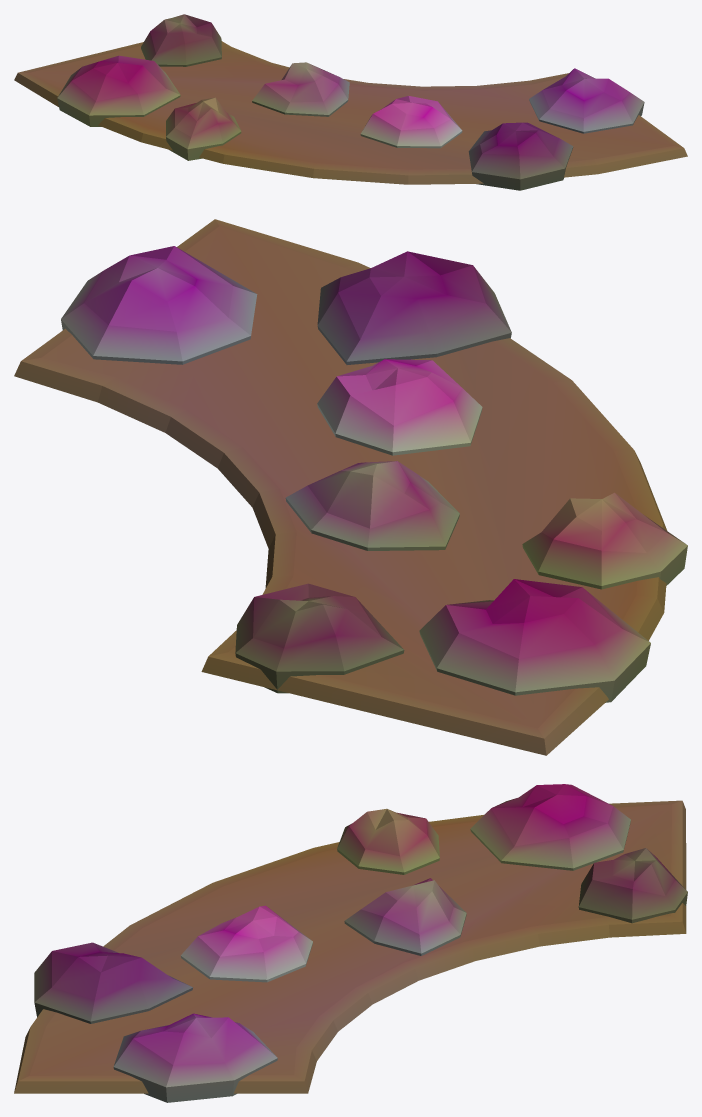
Rendered from Path_Stones_Curve.glb.
3 views of the same model, one above another, from view 1: azimuth 30°, elevation 25°; view 2: azimuth 150°, elevation 25°; view 3: azimuth 270°, elevation 25° (orthographic). The views are drawn at different scales.
Parts seen in each view (by area): view 1: Path_Stones_Curve; view 2: Path_Stones_Curve; view 3: Path_Stones_Curve.
Boxes of the visible parts, x1,y1,x2,y2 form: Path_Stones_Curve: [14, 14, 687, 190]; Path_Stones_Curve: [14, 219, 687, 755]; Path_Stones_Curve: [14, 784, 687, 1102].
Bounding box in the file's own units: 2.65 × 0.2376 × 2.59.
